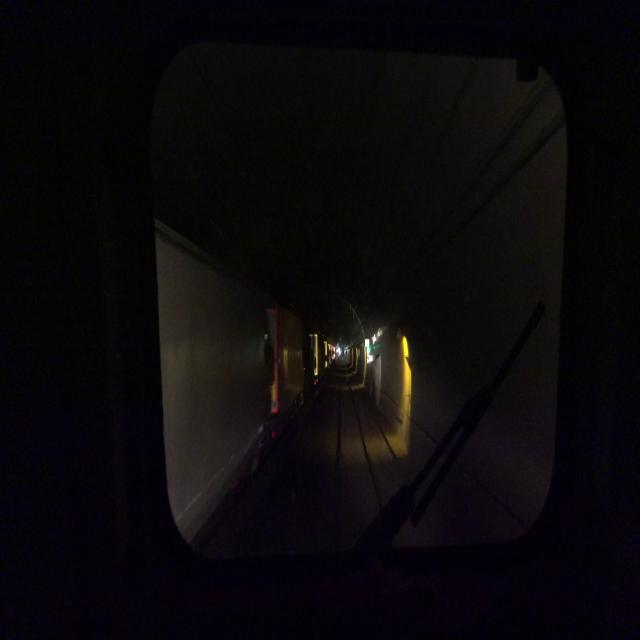rail-track: (341, 361, 378, 546)
